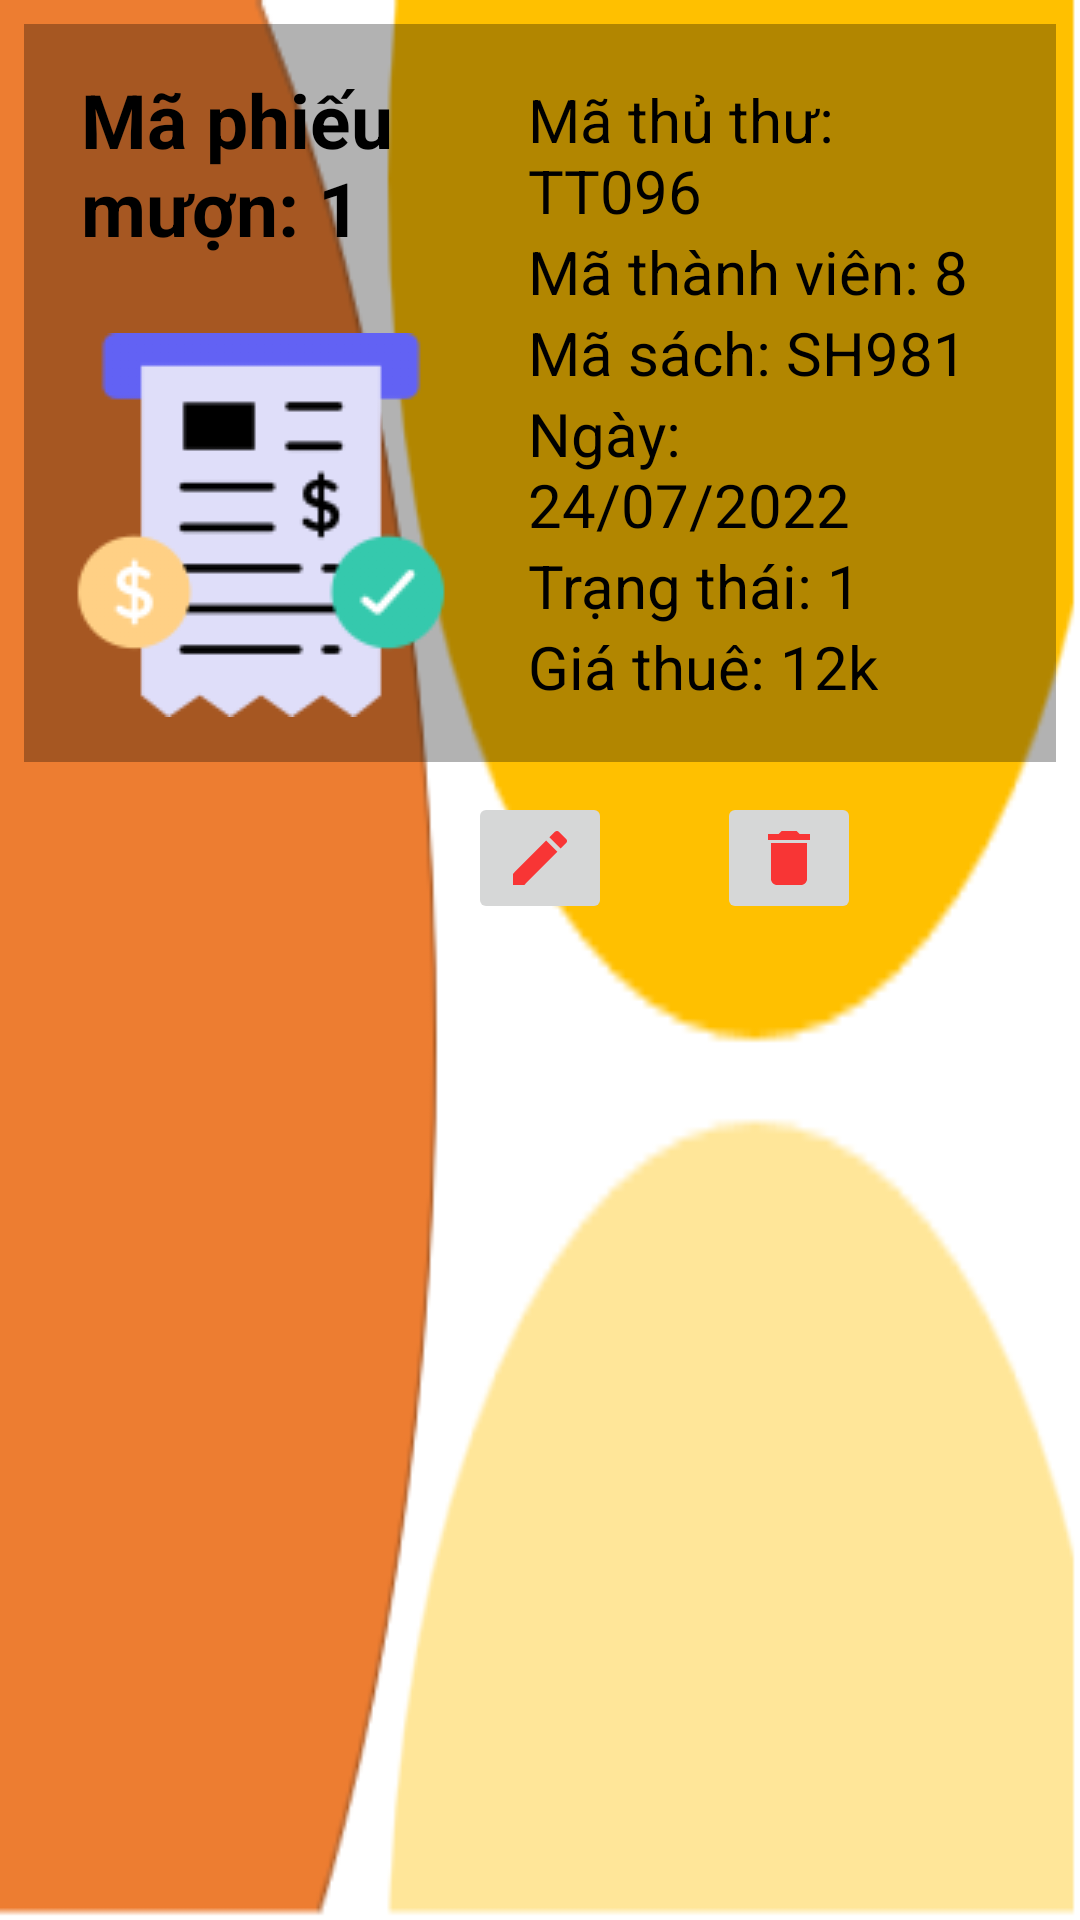

Icons on this 1080×1920 Android screen, each with the point to tap as (x,y):
sua: (540,858)
xoa: (789,858)
